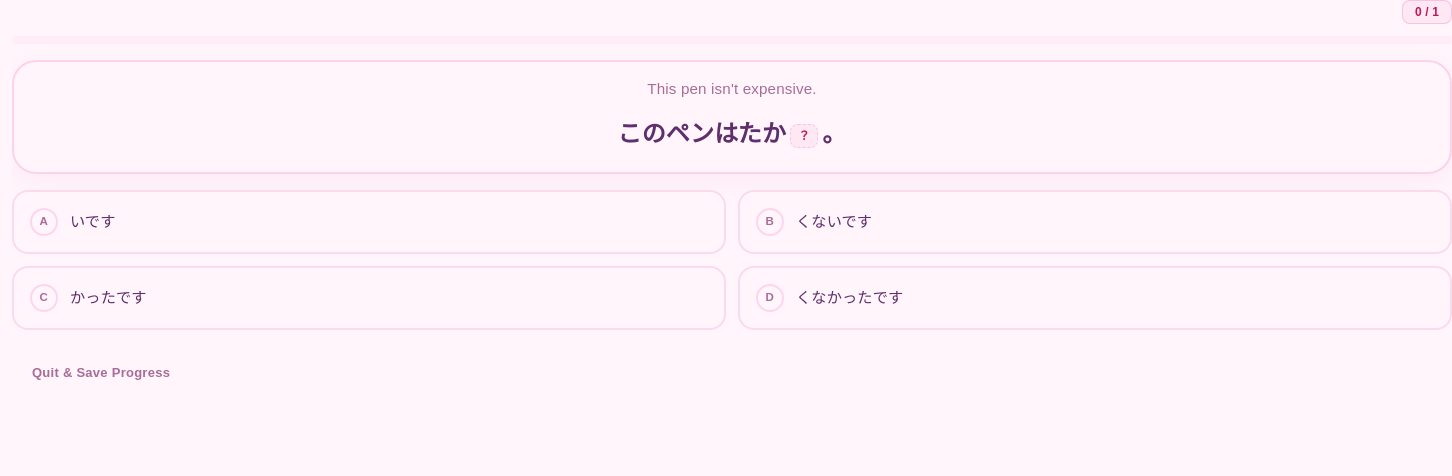
Test: EndingsMode › shows the miss explainer with the right rule on a wrong pick
The image size is (1452, 476).
Click the button with aria-label "Answer C: かったです" at (108, 297), box left=12, top=266, right=726, bottom=330
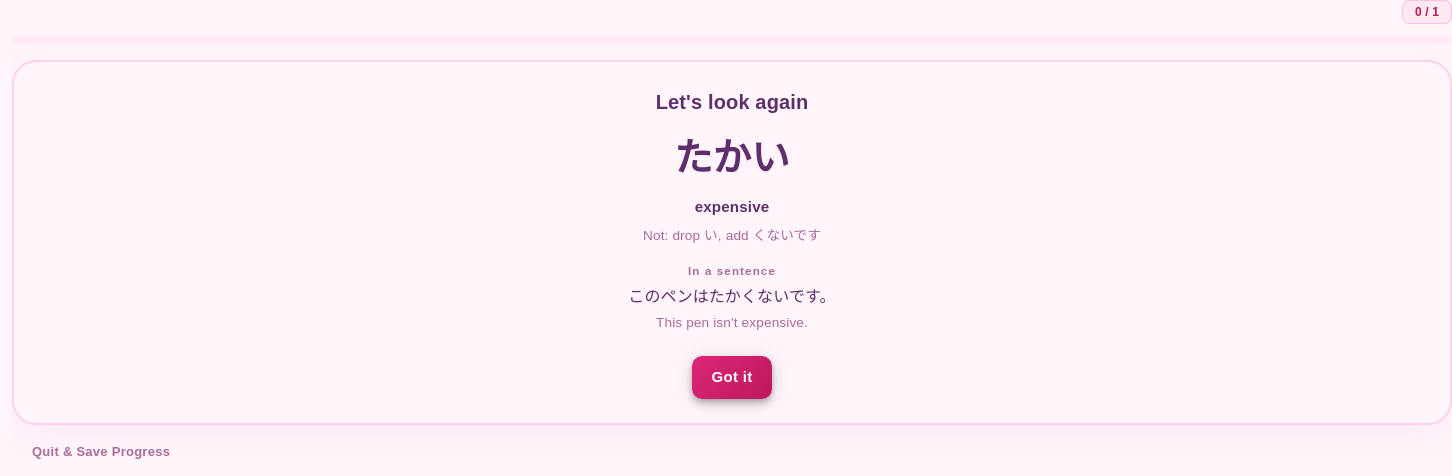
Result: the text "Not: drop い, add くないです" is shown at left=643, top=226, right=821, bottom=246
